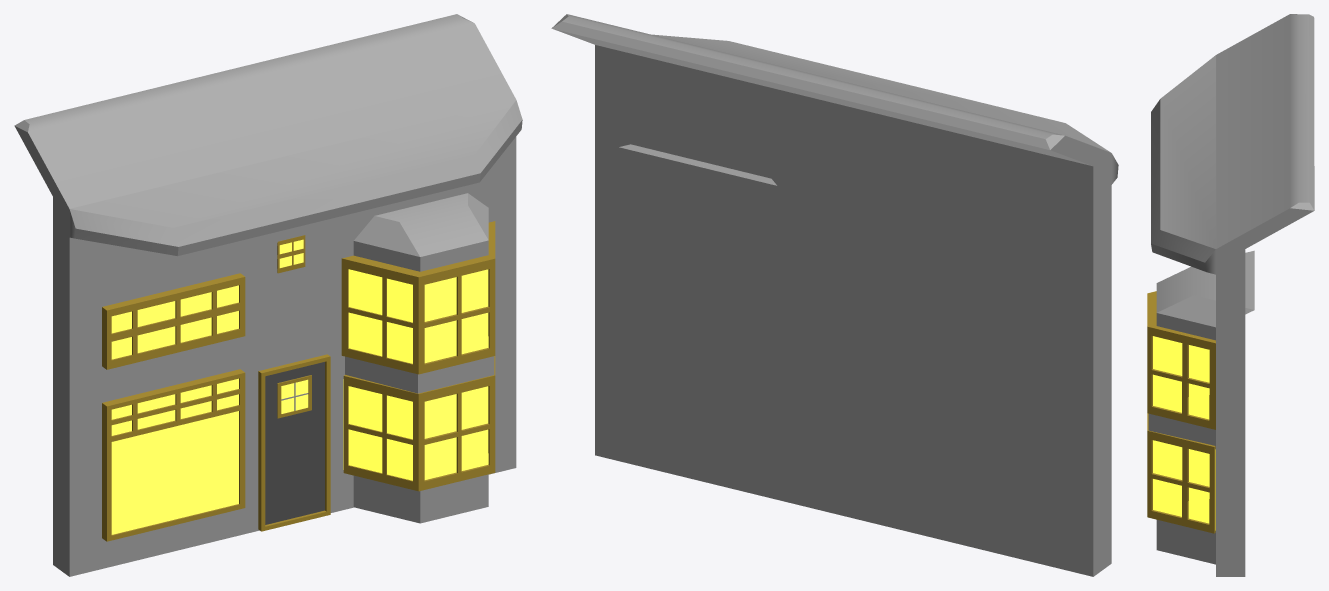
File: House colour.fbx
3 views of the same model, side by side, from view 1: azimuth 30°, elevation 25°; view 2: azimuth 150°, elevation 25°; view 3: azimuth 270°, elevation 25° (orthographic). The views are drawn at different scales.
Parts seen in each view (by area): view 1: polySurface1; view 2: polySurface1; view 3: polySurface1.
Part boxes in pixels (bbox=[...]): polySurface1: bbox=[14, 14, 522, 576]; polySurface1: bbox=[551, 14, 1118, 576]; polySurface1: bbox=[1147, 14, 1314, 576].
Bounding box in the file's own units: 654 × 583 × 238.
